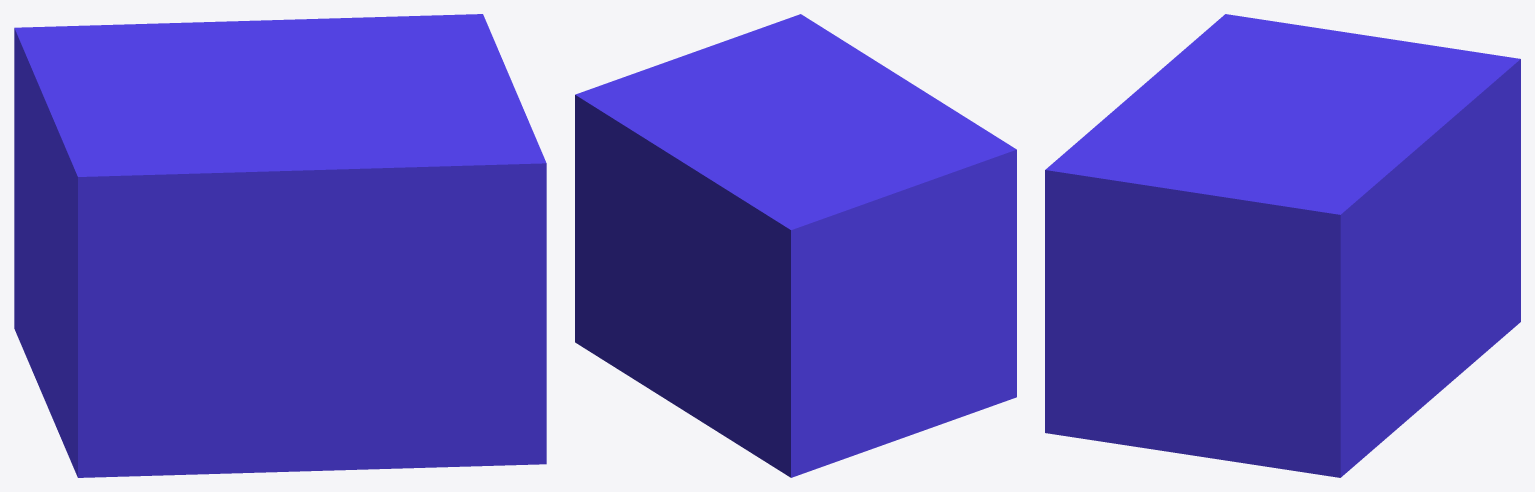
File: Arm_left.fbx
3 views of the same model, side by side, from view 1: azimuth 30°, elevation 25°; view 2: azimuth 150°, elevation 25°; view 3: azimuth 270°, elevation 25° (orthographic). The views are drawn at different scales.
Visible parts, largest first — view 1: Arm left; view 2: Arm left; view 3: Arm left.
Boxes of the visible parts, bbox=[...] form: Arm left: bbox=[14, 14, 546, 477]; Arm left: bbox=[575, 14, 1016, 477]; Arm left: bbox=[1045, 14, 1520, 477].
Size of the model in its own units: 66.99 by 40.91 by 67.04.
